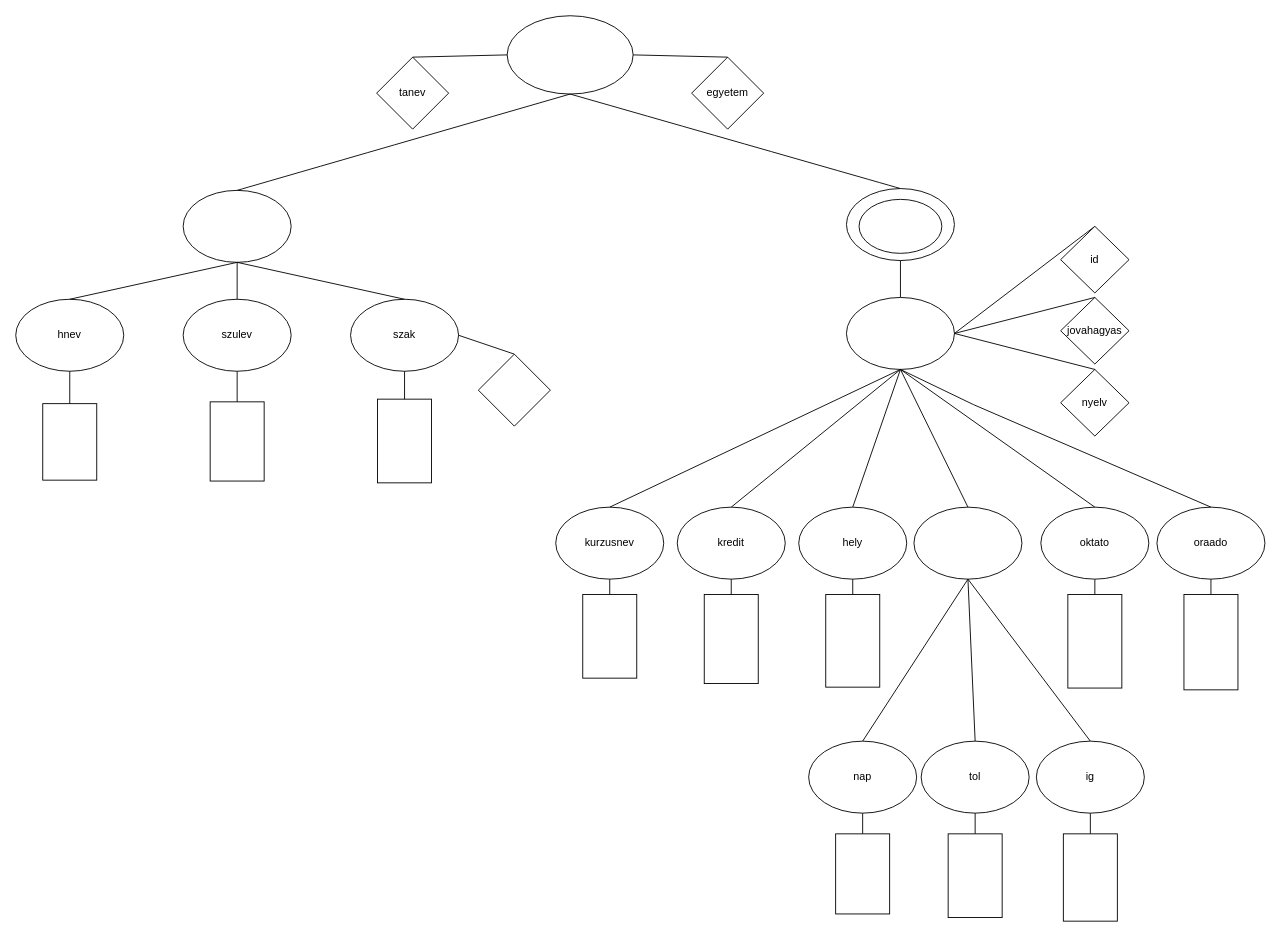
The diagram is 1281 pixels wide and 937 high, and some of its shapes have lost their labels. Here are the shapes that lost their labels. From the top down, the centre of each, then its label:
At (x=569, y=54): "HK74CE_kurzusfelvetel".
At (x=236, y=225): "hallgato".
At (x=900, y=225): "kurzusok".
At (x=900, y=333): "kurzus".
At (x=513, y=389): "evf".
At (x=967, y=542): "idopont".
